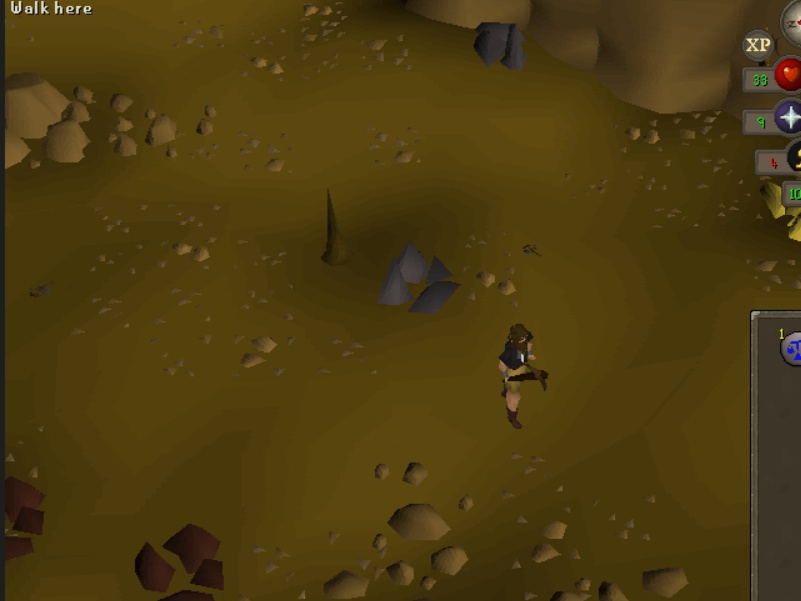iron: (131, 518, 235, 601), (1, 476, 64, 568)
